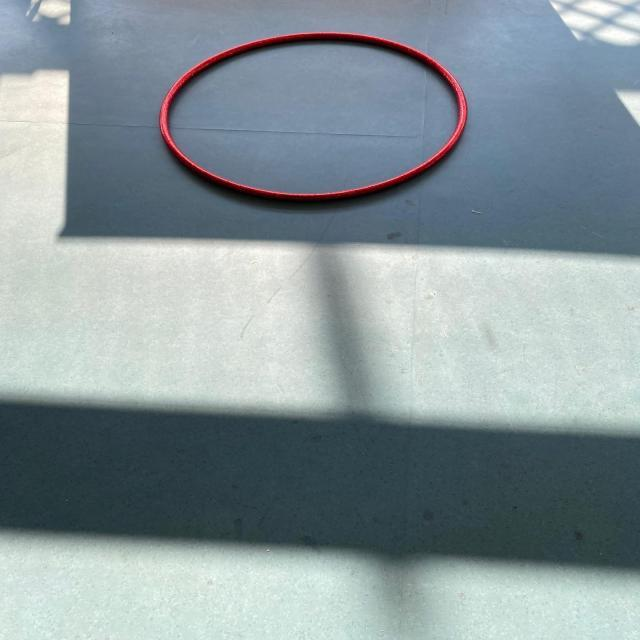redcircle: (155, 20, 473, 213)
